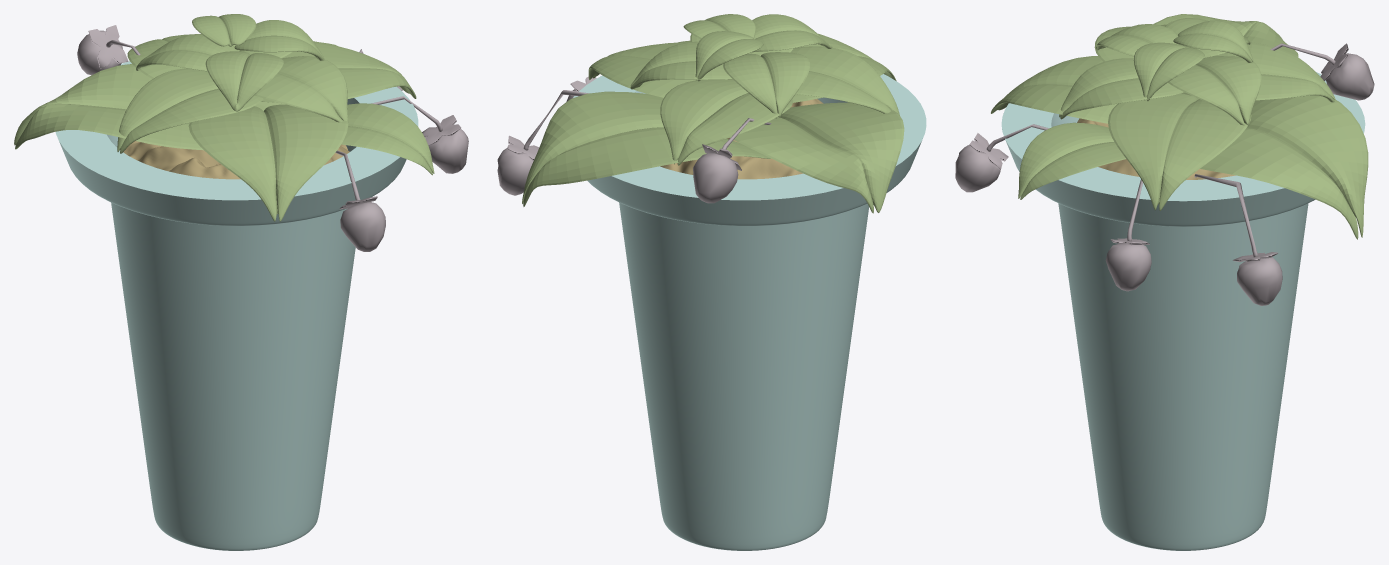
File: Vaso 2 pé de morango.fbx
3 renders of one model, left to right at view 1: azimuth 30°, elevation 25°; view 2: azimuth 150°, elevation 25°; view 3: azimuth 270°, elevation 25°, orthographic.
Parts seen in each view (by area): view 1: Vaso 1.001, Folha.008, Folha.010, Terra.001, Cube.004, Cube.001, Cube.003; view 2: Vaso 1.001, Folha.008, Cube.003, Cube.002, Terra.001; view 3: Vaso 1.001, Folha.008, Folha.010, Cube.002, Cube.004, Cube.003, Cube.001, Terra.001.
Boxes of the visible parts, x1=… form: Vaso 1.001: x1=55, y1=61, x2=418, y2=550; Folha.008: x1=14, y1=14, x2=416, y2=221; Folha.010: x1=341, y1=103, x2=434, y2=175; Terra.001: x1=123, y1=141, x2=349, y2=179; Cube.004: x1=335, y1=150, x2=385, y2=251; Cube.001: x1=371, y1=96, x2=468, y2=173; Cube.003: x1=77, y1=25, x2=140, y2=75; Vaso 1.001: x1=573, y1=74, x2=926, y2=550; Folha.008: x1=522, y1=14, x2=904, y2=213; Cube.003: x1=693, y1=118, x2=771, y2=203; Cube.002: x1=497, y1=90, x2=588, y2=195; Terra.001: x1=660, y1=99, x2=823, y2=179; Vaso 1.001: x1=1001, y1=72, x2=1365, y2=550; Folha.008: x1=991, y1=14, x2=1368, y2=239; Folha.010: x1=1018, y1=122, x2=1125, y2=199; Cube.002: x1=1194, y1=174, x2=1282, y2=305; Cube.004: x1=955, y1=124, x2=1048, y2=192; Cube.003: x1=1270, y1=43, x2=1374, y2=100; Cube.001: x1=1105, y1=179, x2=1151, y2=291; Terra.001: x1=1077, y1=118, x2=1235, y2=179.
Bounding box in the file's own units: 392 × 474 × 371.
